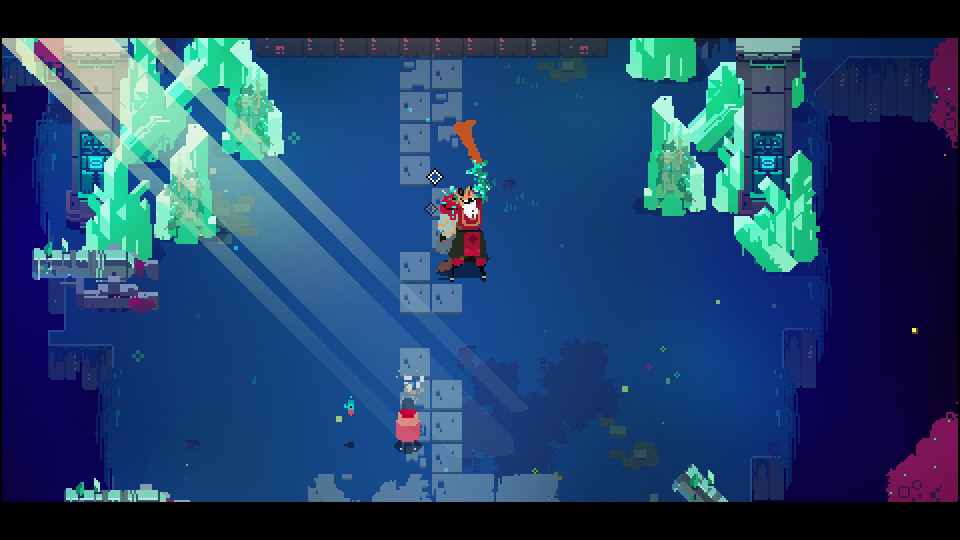hanged_man: (424, 154, 504, 288)
player: (391, 395, 424, 458)
